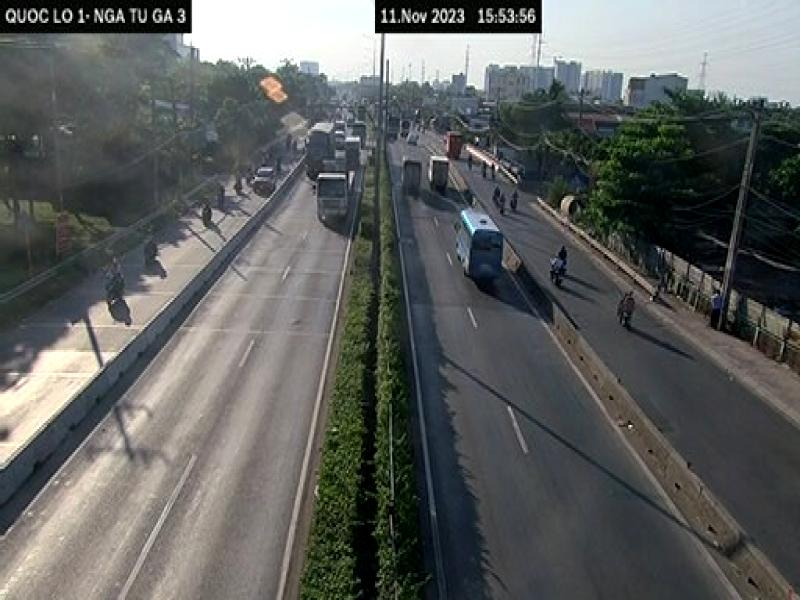bus: (453, 208, 507, 287)
